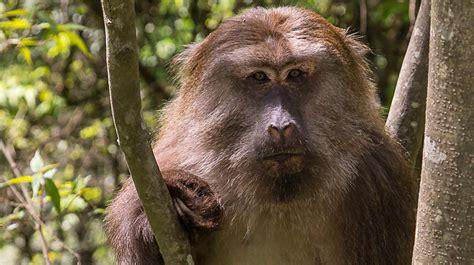monkey: (106, 12, 413, 265)
